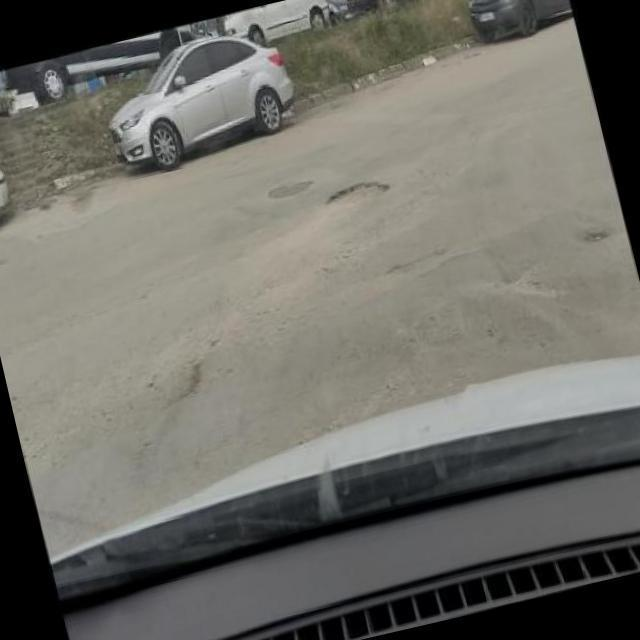Pothole: (324, 180, 391, 210)
